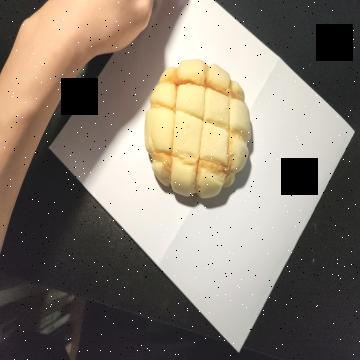melon_bread: (145, 60, 252, 203)
